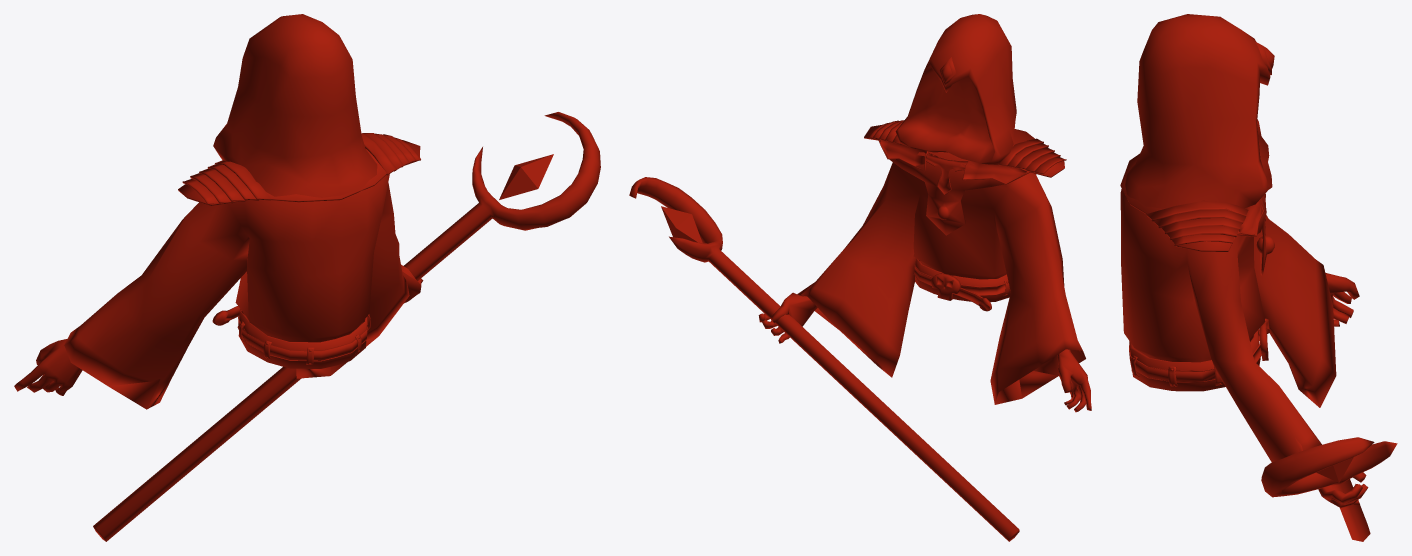
The model's file is top_000056.obj.
The picture shows the model from 3 angles, left to right: view 1: azimuth 30°, elevation 25°; view 2: azimuth 150°, elevation 25°; view 3: azimuth 270°, elevation 25°; orthographic projection. The views are drawn at different scales.
Parts seen in each view (by area): view 1: LowPoly_Warlock.000_Plane.005; view 2: LowPoly_Warlock.000_Plane.005; view 3: LowPoly_Warlock.000_Plane.005.
Boxes of the visible parts, <box> form: LowPoly_Warlock.000_Plane.005: <box>14,14,600,541</box>; LowPoly_Warlock.000_Plane.005: <box>629,14,1091,541</box>; LowPoly_Warlock.000_Plane.005: <box>1120,14,1397,541</box>.
Bounding box in the file's own units: 1.94 × 1.79 × 0.7648.
